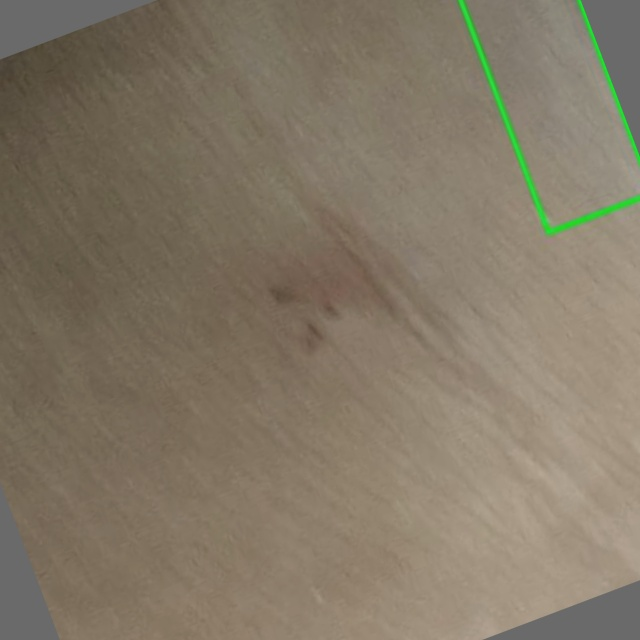Atopic Dermatitis: (460, 0, 639, 232)
